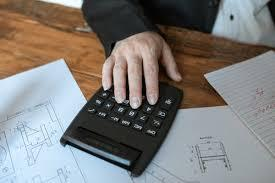Calculator: (59, 67, 187, 181)
